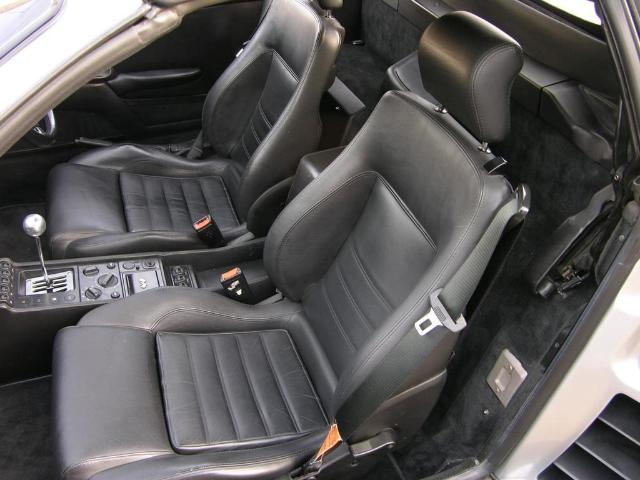Seatbelt: (416, 197, 522, 338), (184, 132, 203, 160)
